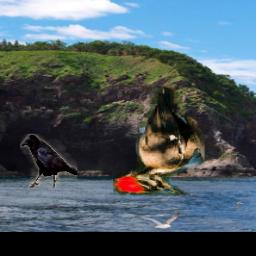Crow: (20, 134, 77, 188)
Woodpecker: (113, 86, 206, 195)
